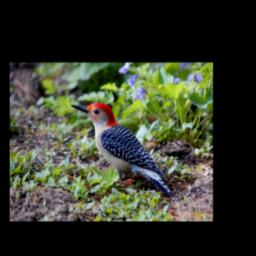Woodpecker: (71, 102, 176, 198)
